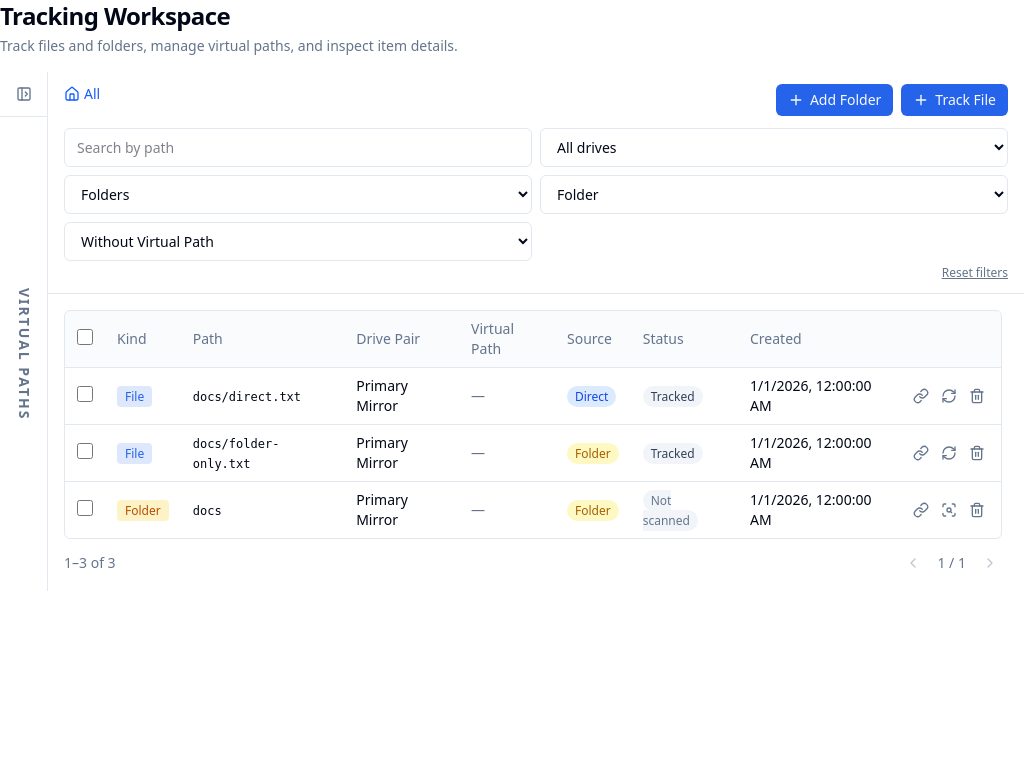
Test: TrackingWorkspacePage › removes folder-origin descendant after single folder delete
expect the row with test id "folder-row-21" is shown: met, box [65, 482, 1001, 538]
Click the checkbox with test id "select-row-folder-21".
click(85, 508)  # box [77, 500, 93, 516]
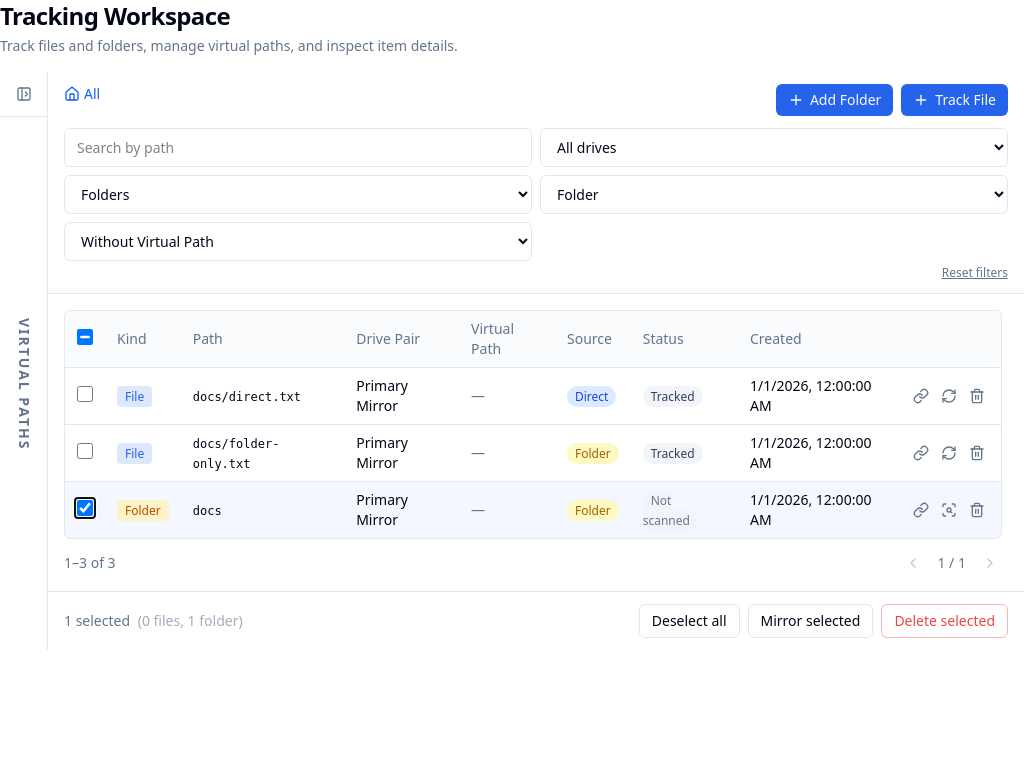
Click the button with test id "bulk-delete".
click(945, 621)  # box [881, 604, 1008, 638]
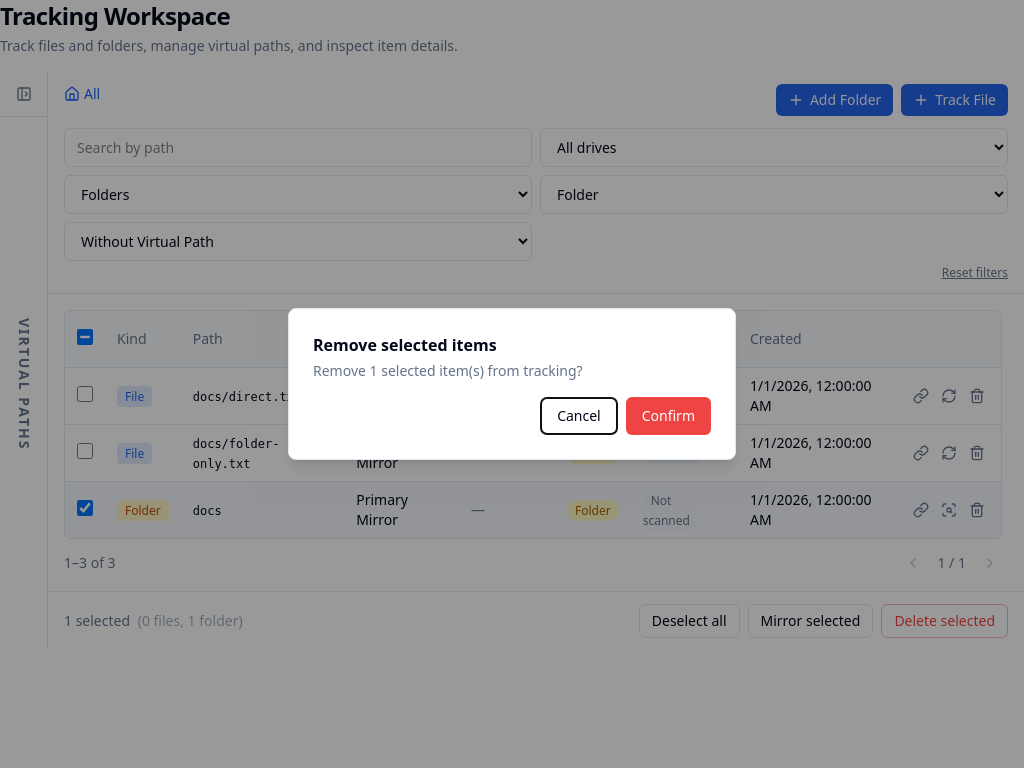
Click the button "Confirm".
click(668, 416)  # box [626, 397, 711, 435]
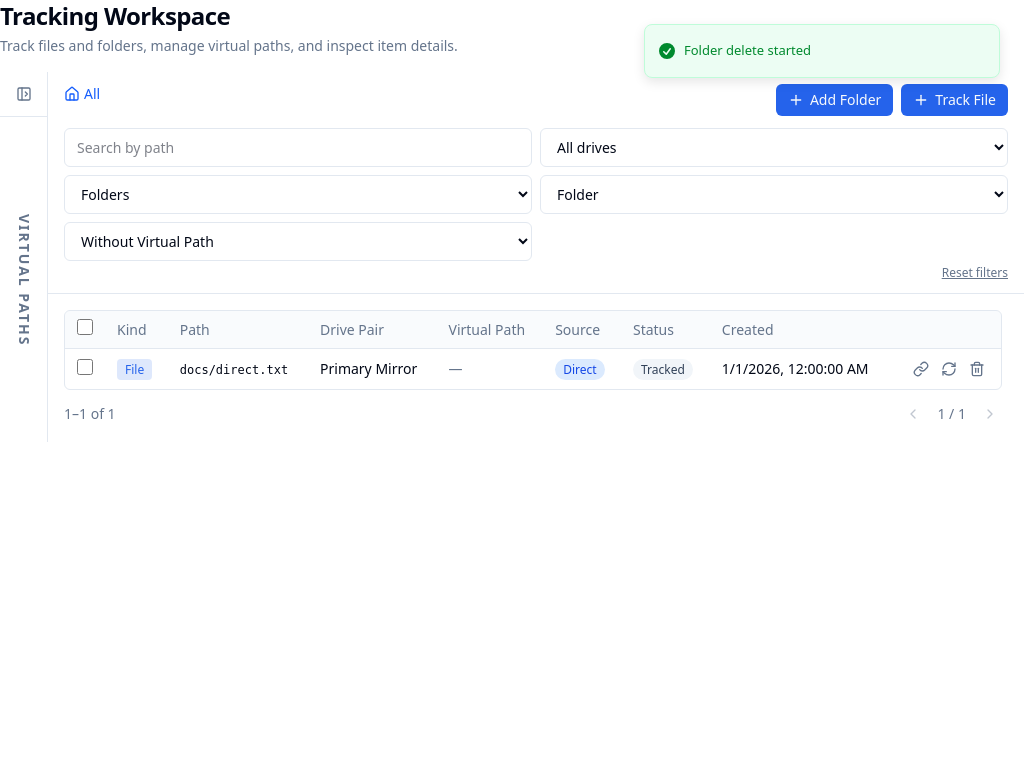
expect the row with test id "file-row-11" is shown: met, box [65, 348, 1001, 389]
expect the row with test id "folder-row-21" is gone: met
expect the row with test id "file-row-12" is gone: met
